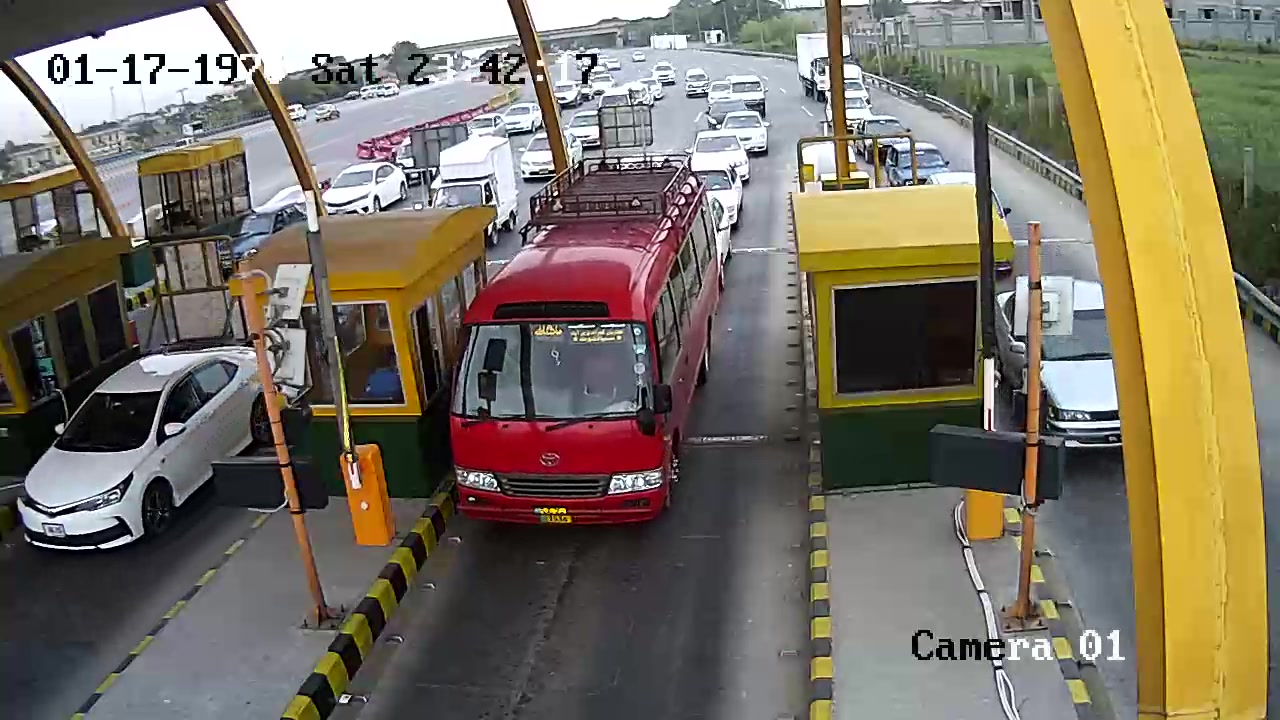F3: (438, 150, 727, 547)
